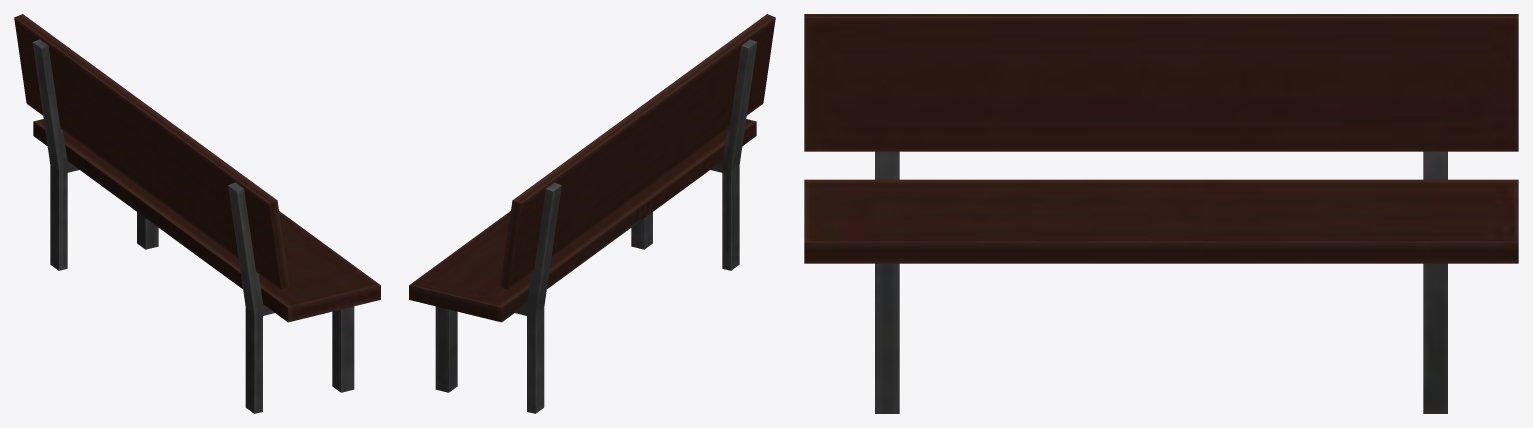
Rendered from low_poly_bench.glb.
The picture shows the model from 3 angles, left to right: view 1: azimuth 30°, elevation 25°; view 2: azimuth 150°, elevation 25°; view 3: azimuth 270°, elevation 25°; orthographic projection. The views are drawn at different scales.
Visible parts, largest first — view 1: NewCity_Bench; view 2: NewCity_Bench; view 3: NewCity_Bench.
Boxes of the visible parts, box(x1,y1,x2,y2) form: NewCity_Bench: box(14, 14, 380, 413); NewCity_Bench: box(409, 14, 775, 413); NewCity_Bench: box(804, 14, 1518, 413).
Bounding box in the file's own units: 53.86 × 101 × 200.
1 material, 1 textured.
